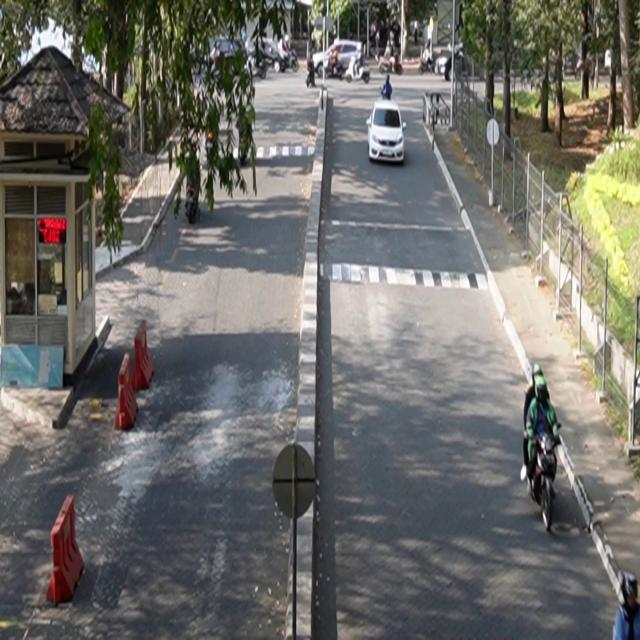car: (367, 101, 408, 165)
